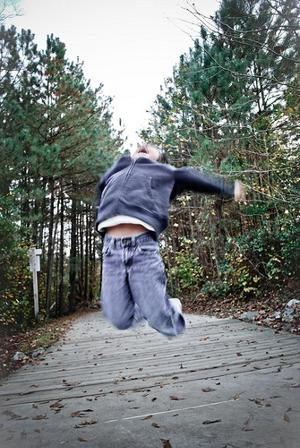person: (96, 137, 247, 344)
